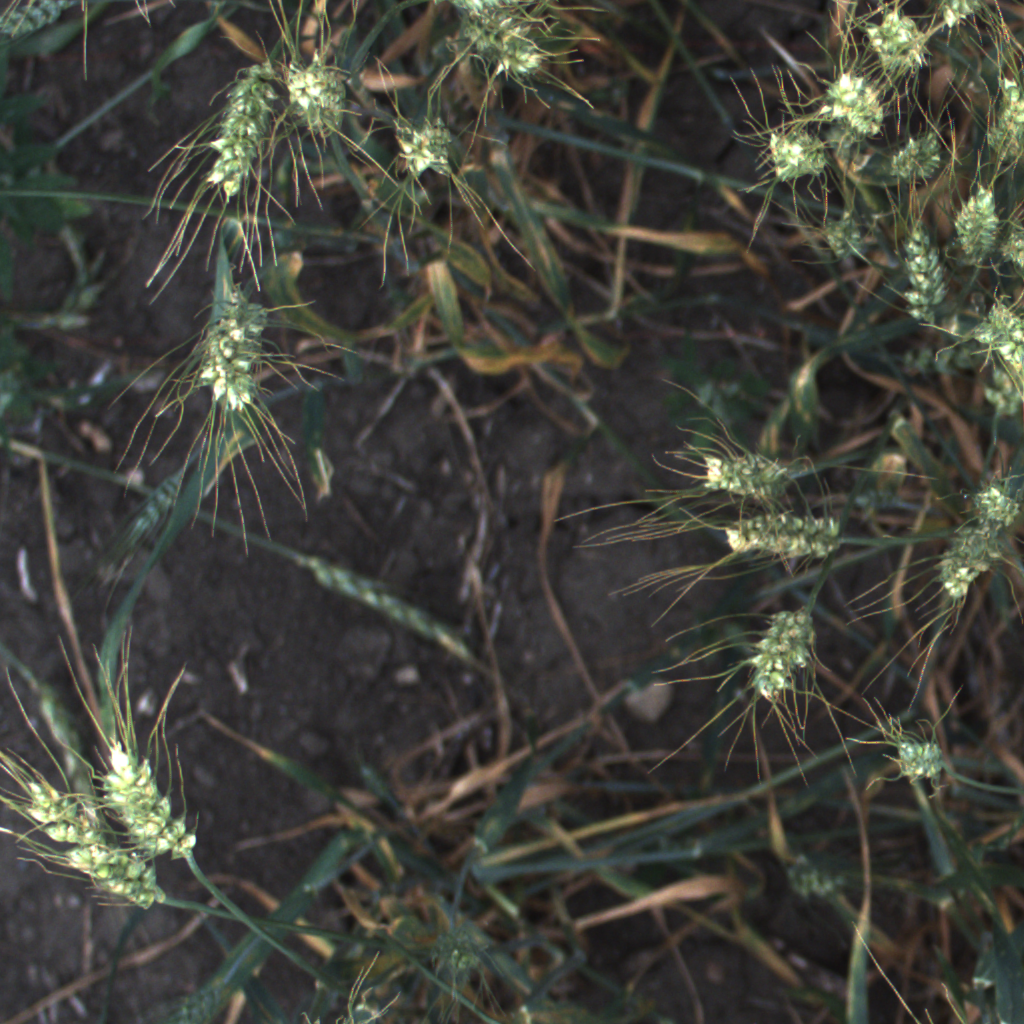wheat_head: (6, 764, 175, 928), (91, 729, 207, 871), (199, 52, 286, 208), (184, 282, 282, 416), (741, 585, 830, 716), (708, 508, 846, 567), (923, 521, 1017, 606), (893, 213, 955, 338), (741, 111, 835, 191), (852, 0, 939, 83), (811, 64, 897, 141), (687, 448, 802, 505), (450, 0, 540, 59), (879, 727, 956, 793), (951, 180, 1008, 266), (973, 284, 1024, 378), (981, 71, 1024, 168), (884, 129, 957, 185), (287, 52, 347, 118), (397, 118, 457, 181), (490, 27, 556, 84), (960, 473, 1022, 533), (809, 208, 870, 267), (441, 931, 482, 983), (933, 0, 997, 33), (1, 8, 65, 38)
